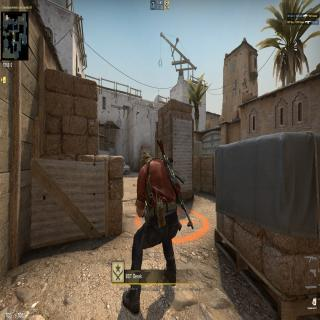T-Head: (139, 147, 152, 169)
